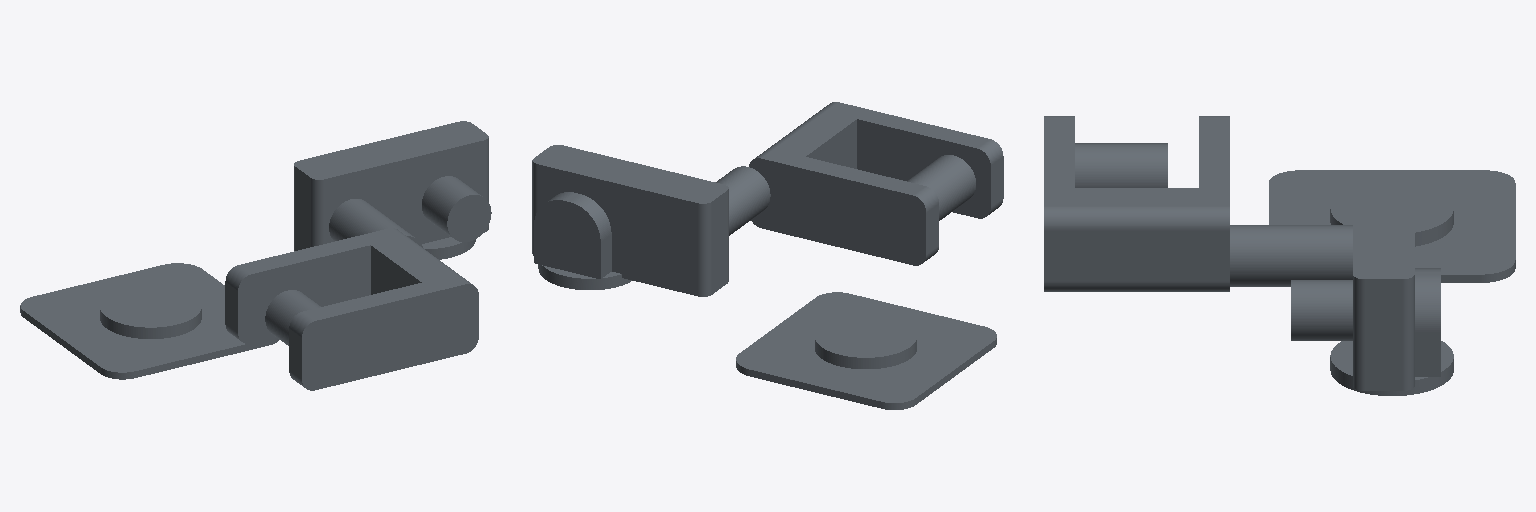
The robot description file, URDF, robot "dof3v1":
<?xml version="1.0" ?>
<robot name="dof3v1">
  <!--Generated by RobotCAD, a ROS Workbench for FreeCAD (https://github.com/drfenixion/freecad.robotcad)-->
  <link name="l_base001">
    <visual>
      <!--base001/base001.-->
      <origin rpy="0 0 0" xyz="-0.187 0.0 0.0"/>
      <geometry>
        <mesh filename="package://dof3v1/meshes/d22_3dof_urdftest_model1_base_dpzpl0.dae"/>
      </geometry>
    </visual>
    <collision>
      <!--col__l_base001__col_base_col_obj/col_base_col_obj.-->
      <origin rpy="0 0 0" xyz="0.0 0.0 0.0"/>
      <geometry>
        <mesh filename="package://dof3v1/meshes/d22_3dof_urdftest_model1_col_base_col_obj_dudcq4.dae"/>
      </geometry>
    </collision>
    <inertial>
      <mass value="0.03126743590359958"/>
      <origin rpy="0 0 0" xyz="0.00187442 -0.00826342 0.00249671"/>
      <inertia ixx="1.31312206254997e-05" ixy="4.03527141346337e-08" ixz="-8.464330102978117e-10" iyy="1.3131220625499691e-05" iyz="-8.464330102978297e-10" izz="2.6007569865875e-05"/>
    </inertial>
  </link>
  <link name="l_joint004">
    <visual>
      <!--joint004/joint002.-->
      <origin rpy="0 0 0" xyz="0.0961051 -0.0335613 0.0"/>
      <geometry>
        <mesh filename="package://dof3v1/meshes/d22_3dof_urdftest_model1_joint1_e1tw2u.dae"/>
      </geometry>
    </visual>
    <collision>
      <!--col__joint_v1__col_joint1_col_obj/col_joint1_col_obj.-->
      <origin rpy="0 0 0" xyz="0.0961051 -0.0335613 0.0"/>
      <geometry>
        <mesh filename="package://dof3v1/meshes/d22_3dof_urdftest_model1_col_joint1_col_obj_0lditd.dae"/>
      </geometry>
    </collision>
    <inertial>
      <mass value="0.031959831617938764"/>
      <origin rpy="0 0 0" xyz="0.003095 0.000872506 0.0163242"/>
      <inertia ixx="4.751010966191071e-06" ixy="-4.8493450787938225e-08" ixz="-8.581623648969771e-07" iyy="9.255614513721022e-06" iyz="-1.2692048398772573e-07" izz="8.016853328057483e-06"/>
    </inertial>
  </link>
  <link name="l_joint005">
    <visual>
      <!--joint005/joint003.-->
      <origin rpy="3.141592653589793 0 3.1415926535897927" xyz="-0.0214424 0.0397937 0.0"/>
      <geometry>
        <mesh filename="package://dof3v1/meshes/d22_3dof_urdftest_model1_joint2_cmhc3o.dae"/>
      </geometry>
    </visual>
    <collision>
      <!--col__joint_v2__col_joint2_col_obj/col_joint2_col_obj.-->
      <origin rpy="3.141592653589793 0 3.1415926535897927" xyz="-0.0214424 0.0397937 0.0"/>
      <geometry>
        <mesh filename="package://dof3v1/meshes/d22_3dof_urdftest_model1_col_joint2_col_obj_kpgk1e.dae"/>
      </geometry>
    </collision>
    <inertial>
      <mass value="0.08646991771079156"/>
      <origin rpy="3.141592653589793 0 3.1415926535897927" xyz="-0.00131247 0.0238834 -0.0154061"/>
      <inertia ixx="6.078155230584261e-05" ixy="6.738632603287787e-07" ixz="6.135377077117178e-07" iyy="2.66032875173616e-05" iyz="-8.43275653735899e-06" izz="5.557832788715934e-05"/>
    </inertial>
  </link>
  <link name="l_joint006">
    <visual>
      <!--joint006/joint004.-->
      <origin rpy="-3.1415926535897927 1.5707963267948963 0" xyz="0.015 -0.08 0.0"/>
      <geometry>
        <mesh filename="package://dof3v1/meshes/d22_3dof_urdftest_model1_joint3_x5ochc.dae"/>
      </geometry>
    </visual>
    <collision>
      <!--col__joint_v3__col_joint3_col_obj/col_joint3_col_obj.-->
      <origin rpy="-3.1415926535897927 1.5707963267948963 0" xyz="0.015 -0.08 0.0"/>
      <geometry>
        <mesh filename="package://dof3v1/meshes/d22_3dof_urdftest_model1_col_joint3_col_obj_ruzol4.dae"/>
      </geometry>
    </collision>
    <inertial>
      <mass value="0.09943395251360396"/>
      <origin rpy="-3.1415926535897927 1.5707963267948963 0" xyz="-5.10788e-05 -0.0340817 -0.0305877"/>
      <inertia ixx="6.719532968284814e-05" ixy="-1.7192906338066312e-06" ixz="-2.2410123279618916e-08" iyy="4.891294786588862e-05" iyz="-1.4943833488361385e-07" izz="0.0001027039241504814"/>
    </inertial>
  </link>
  <joint name="l_base001__to__l_joint004" type="fixed">
    <parent link="l_base001"/>
    <child link="l_joint004"/>
    <origin rpy="0 0 -1.570796326794882" xyz="0.125902 -0.00823628 0.008"/>
  </joint>
  <joint name="l_joint004__to__l_joint005" type="revolute">
    <parent link="l_joint004"/>
    <child link="l_joint005"/>
    <origin rpy="-3.141592653589793 1.5707963267948963 0" xyz="-0.00729428 0.00120849 0.0218855"/>
    <axis xyz="0 0 1"/>
    <limit effort="0.0" lower="0.0" upper="3.141592653589793" velocity="0.0"/>
  </joint>
  <joint name="l_joint005__to__l_joint006" type="revolute">
    <parent link="l_joint005"/>
    <child link="l_joint006"/>
    <origin rpy="0 0 3.1415926535897927" xyz="0.0 0.0419226 -0.06"/>
    <axis xyz="0 0 1"/>
    <limit effort="0.0" lower="0.0" upper="6.283185307179586" velocity="0.0"/>
  </joint>
</robot>

--- Facts derived from the render (not from the file) ---
The picture shows the robot from 3 angles, left to right: view 1: azimuth 30°, elevation 25°; view 2: azimuth 150°, elevation 25°; view 3: azimuth 270°, elevation 25°; orthographic projection.
Robot: dof3v1 — 4 links, 3 joints (2 revolute, 1 fixed); root link l_base001; default pose: every joint at zero.
Links seen in each view (by area): view 1: l_joint006, l_base001, l_joint005, l_joint004; view 2: l_joint006, l_joint005, l_base001, l_joint004; view 3: l_joint006, l_joint005, l_base001, l_joint004.
Link boxes in pixels (x1=…): l_joint006: x1=225, y1=228, x2=478, y2=390; l_base001: x1=20, y1=263, x2=278, y2=379; l_joint005: x1=294, y1=121, x2=488, y2=250; l_joint004: x1=422, y1=176, x2=491, y2=259; l_joint006: x1=749, y1=102, x2=1003, y2=265; l_joint005: x1=532, y1=145, x2=770, y2=296; l_base001: x1=736, y1=292, x2=996, y2=409; l_joint004: x1=534, y1=192, x2=631, y2=289; l_joint006: x1=1044, y1=116, x2=1229, y2=291; l_joint005: x1=1230, y1=175, x2=1414, y2=390; l_base001: x1=1269, y1=170, x2=1515, y2=282; l_joint004: x1=1291, y1=268, x2=1453, y2=395.
Size in the robot's own frame: 0.1873 by 0.1527 by 0.0513 metres.
4 mesh visuals loaded from 4 distinct referenced files (4 Collada DAE).
